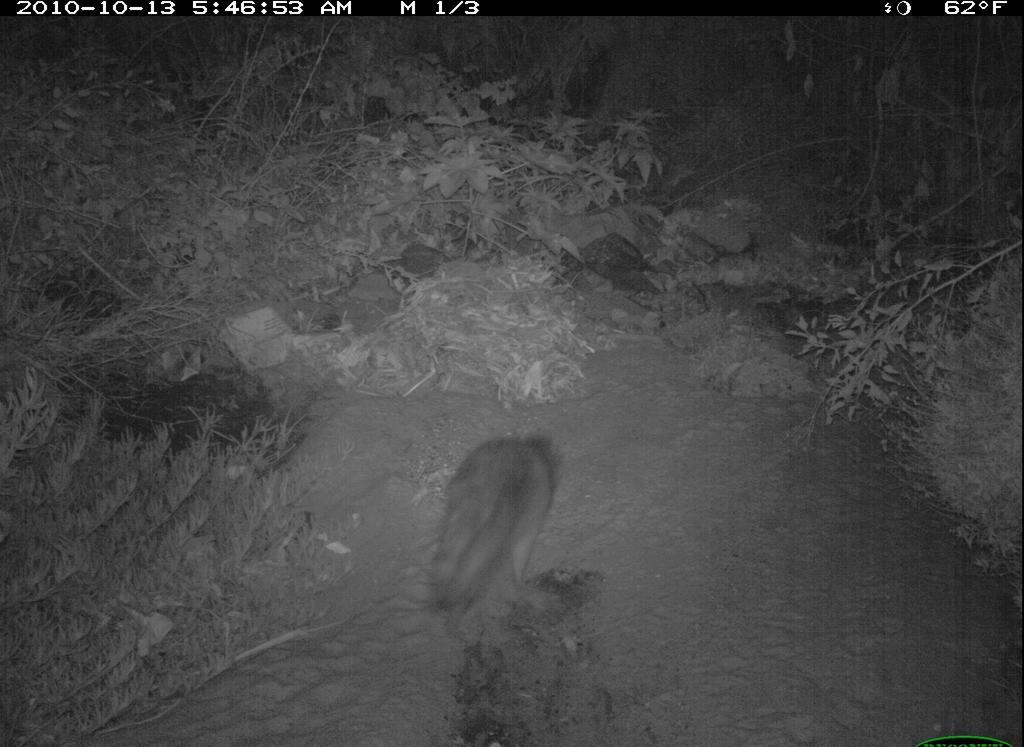raccoon: (414, 427, 580, 652)
